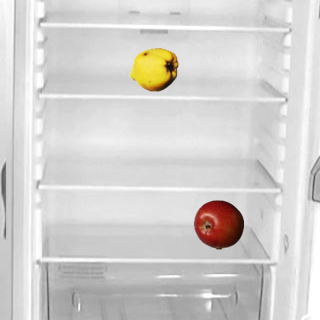Apple Braeburn: (193, 199, 243, 249)
Quince: (128, 44, 178, 94)
